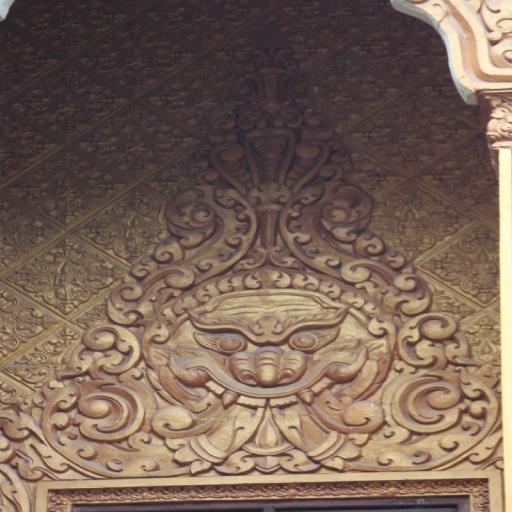hoa: (356, 95, 465, 174), (12, 240, 122, 308), (424, 221, 512, 305), (376, 182, 468, 262), (22, 148, 115, 226), (18, 64, 116, 136), (151, 58, 245, 130), (88, 24, 189, 89), (304, 58, 398, 126), (356, 12, 448, 80), (228, 14, 326, 77), (90, 106, 183, 171), (4, 324, 88, 386), (92, 191, 169, 252), (26, 0, 113, 51), (0, 288, 62, 359), (464, 312, 512, 366)
lua: (46, 372, 232, 477), (314, 372, 494, 474), (392, 314, 465, 372), (82, 324, 143, 371), (383, 276, 437, 316), (108, 282, 154, 326), (290, 272, 321, 292), (172, 292, 200, 314), (144, 322, 170, 344), (368, 317, 395, 337), (218, 273, 244, 293), (340, 290, 365, 309), (244, 268, 266, 289), (198, 283, 216, 303), (319, 282, 341, 298), (272, 269, 289, 289), (363, 302, 383, 319), (159, 306, 175, 325)
